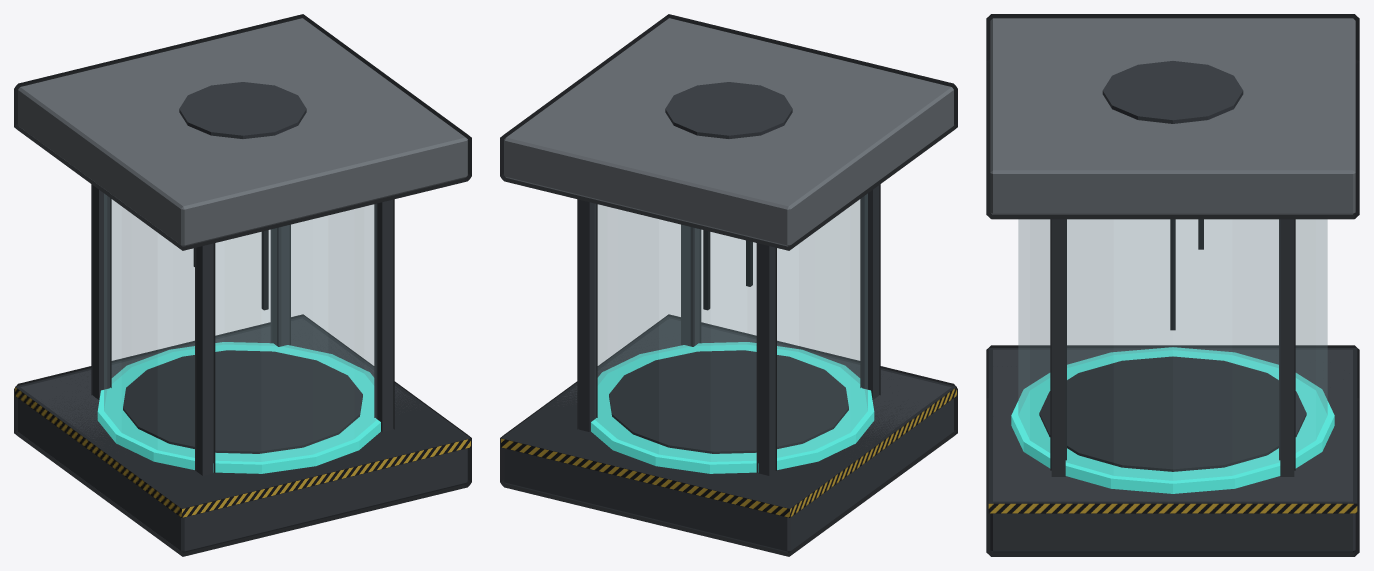
Rendered from SM_LabTank.glb.
3 views of the same model, side by side, from view 1: azimuth 30°, elevation 25°; view 2: azimuth 150°, elevation 25°; view 3: azimuth 270°, elevation 25° (orthographic). The views are drawn at different scales.
Visible parts, largest first — view 1: SM_LabTank, SM_LabTank_Glass, SM_LabTank_Outline; view 2: SM_LabTank, SM_LabTank_Glass, SM_LabTank_Outline; view 3: SM_LabTank, SM_LabTank_Glass, SM_LabTank_Outline.
Boxes of the visible parts, x1,y1,x2,y2 form: SM_LabTank: [15, 18, 470, 552]; SM_LabTank_Glass: [104, 194, 376, 461]; SM_LabTank_Outline: [14, 14, 471, 556]; SM_LabTank: [501, 18, 956, 552]; SM_LabTank_Glass: [595, 194, 867, 461]; SM_LabTank_Outline: [500, 14, 957, 556]; SM_LabTank: [988, 18, 1357, 552]; SM_LabTank_Glass: [1018, 219, 1327, 480]; SM_LabTank_Outline: [986, 14, 1359, 556].
Size of the model in its own units: 2.66 by 3.06 by 2.66.
Materials: 3 (1 with a texture image).
